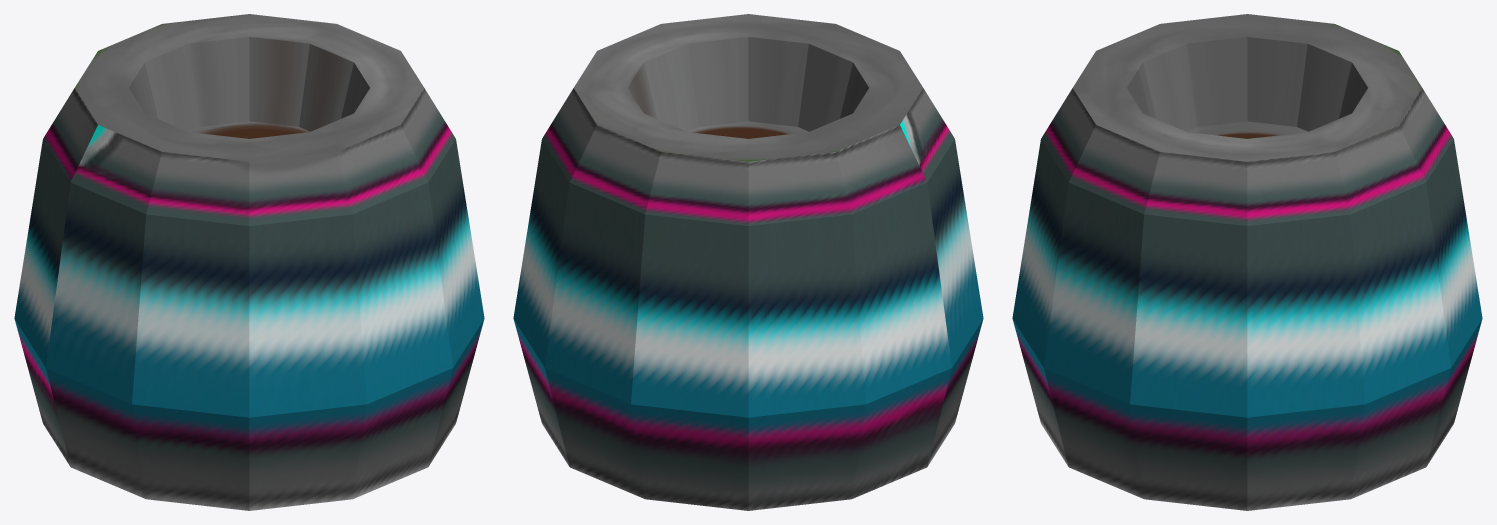
File: snakeGloves.glb
The picture shows the model from 3 angles, left to right: view 1: azimuth 30°, elevation 25°; view 2: azimuth 150°, elevation 25°; view 3: azimuth 270°, elevation 25°; orthographic projection.
Parts seen in each view (by area): view 1: gloves.001; view 2: gloves.001; view 3: gloves.001.
Part boxes in pixels (x1,y1,x2,y2): gloves.001: (14,14,484,510); gloves.001: (513,14,983,510); gloves.001: (1012,14,1482,510).
Size of the model in its own units: 4.33 by 3.78 by 4.33.
1 material, 1 textured.
